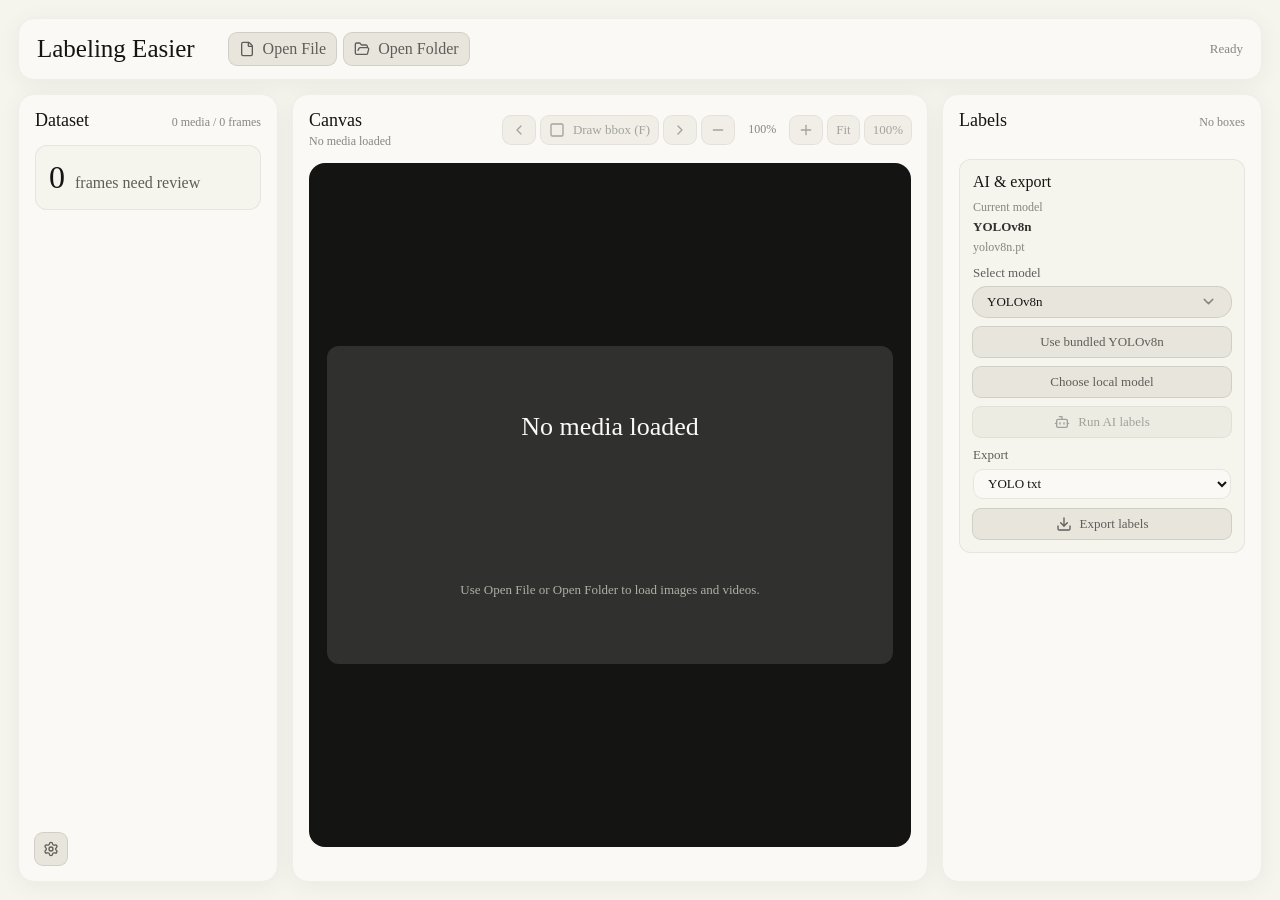
Test: Labeling Easier editor shell › persists local model selection and removes the right-panel advanced download control
Expected: the text "yolov8n.pt" is shown, [973, 240, 1025, 254]
Step 1. Click the button "Choose local model" → click(1102, 382), box [973, 367, 1231, 397]
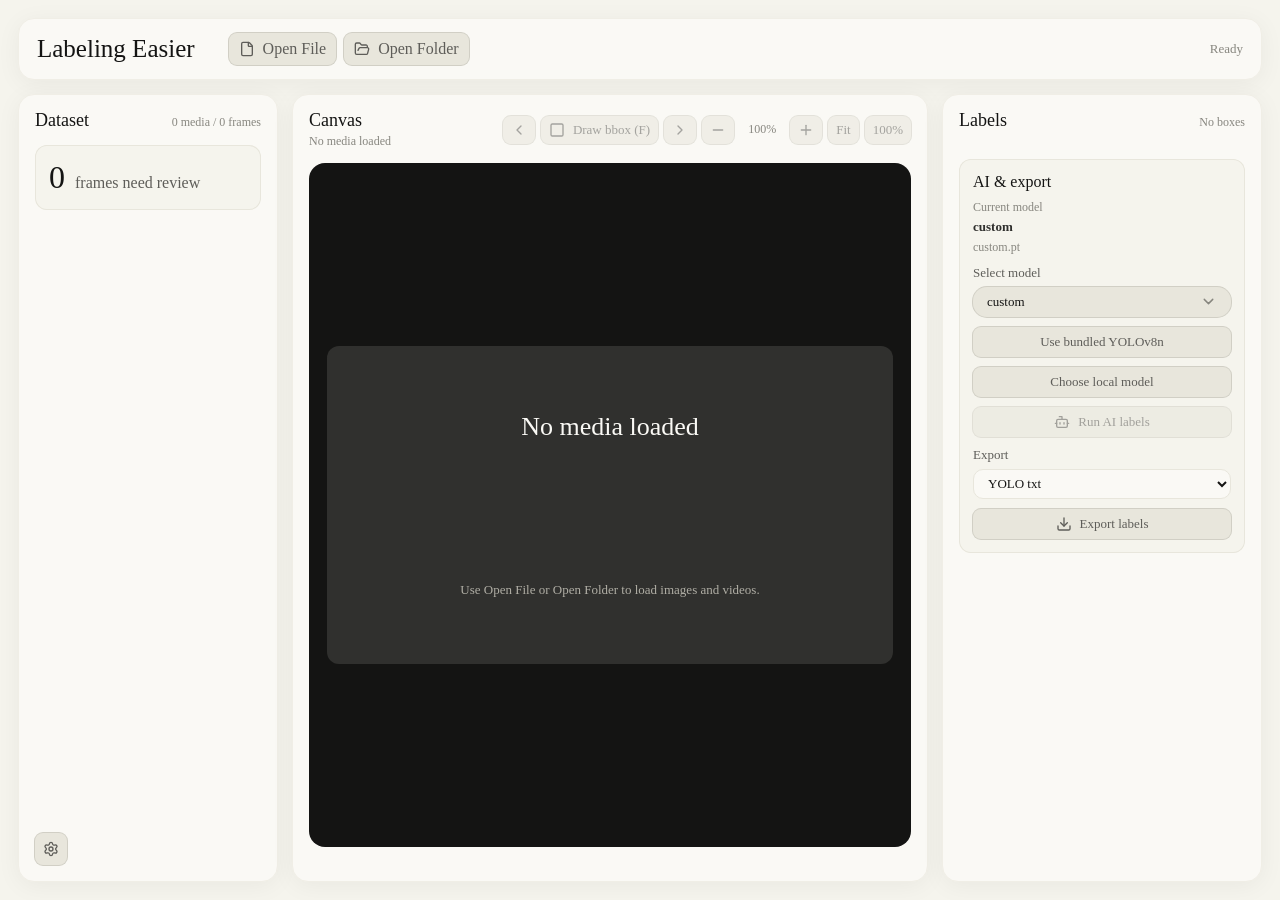
Expected: the text "custom.pt" is shown, [973, 240, 1020, 254]
